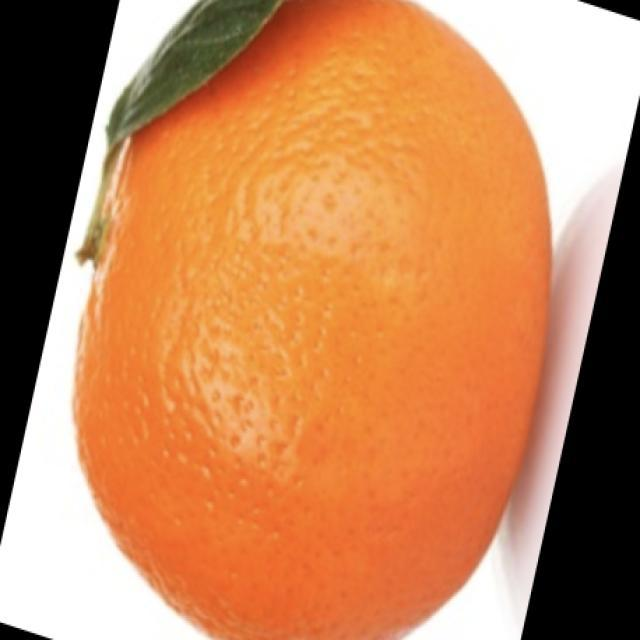Orange: (71, 0, 554, 639)
